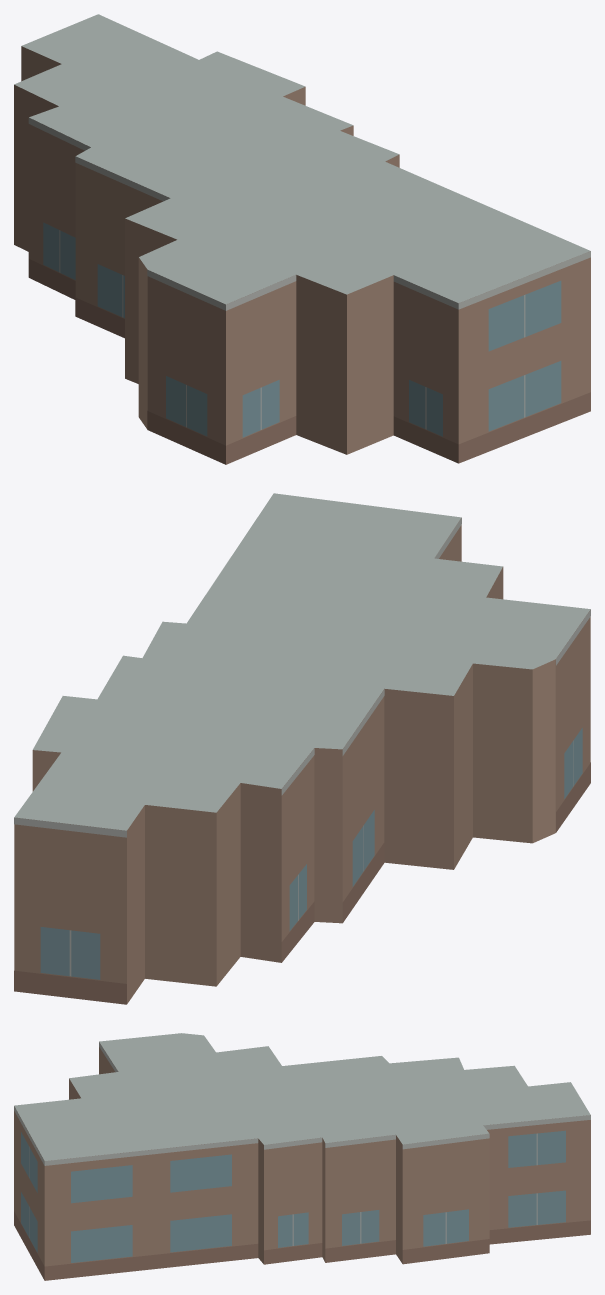
The model's file is survey-upis-32501367.glb.
The picture shows the model from 3 angles, top to bottom: view 1: azimuth 30°, elevation 25°; view 2: azimuth 150°, elevation 25°; view 3: azimuth 270°, elevation 25°; orthographic projection. The views are drawn at different scales.
Parts seen in each view (by area): view 1: survey-upis-32501367.tmp; view 2: survey-upis-32501367.tmp; view 3: survey-upis-32501367.tmp.
Part boxes in pixels (left/top/right/bottom): survey-upis-32501367.tmp: left=14, top=14, right=590, bottom=464; survey-upis-32501367.tmp: left=14, top=493, right=590, bottom=1004; survey-upis-32501367.tmp: left=14, top=1033, right=590, bottom=1280.
Size of the model in its own units: 14.01 by 6.1 by 26.66.
